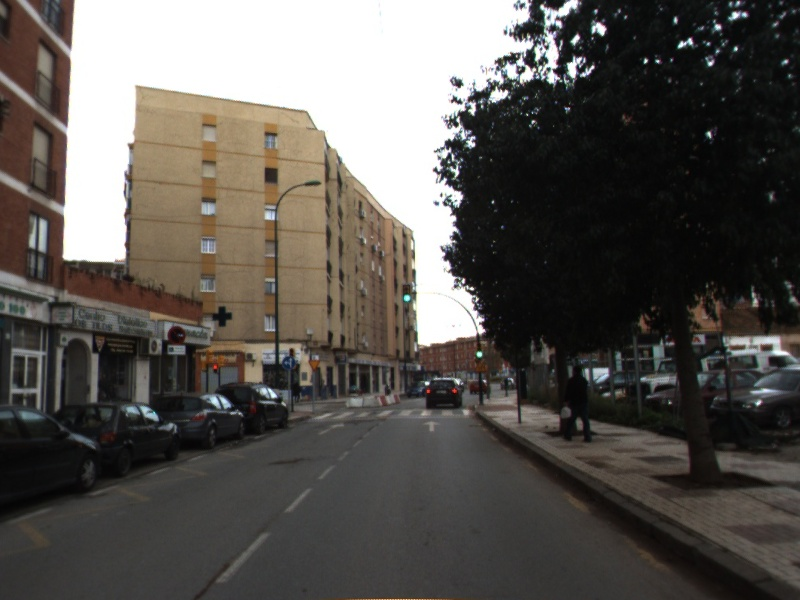STRAIGHT: (315, 420, 347, 437), (420, 418, 444, 433)
